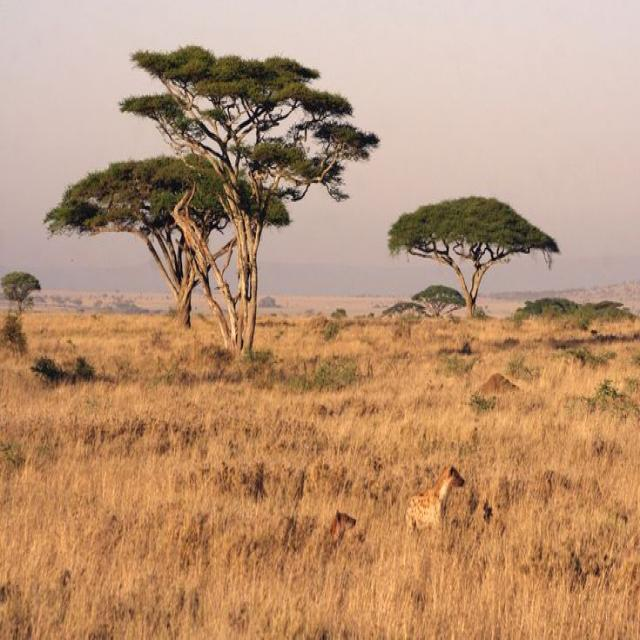Acacia: (66, 28, 328, 369), (382, 186, 556, 308)
